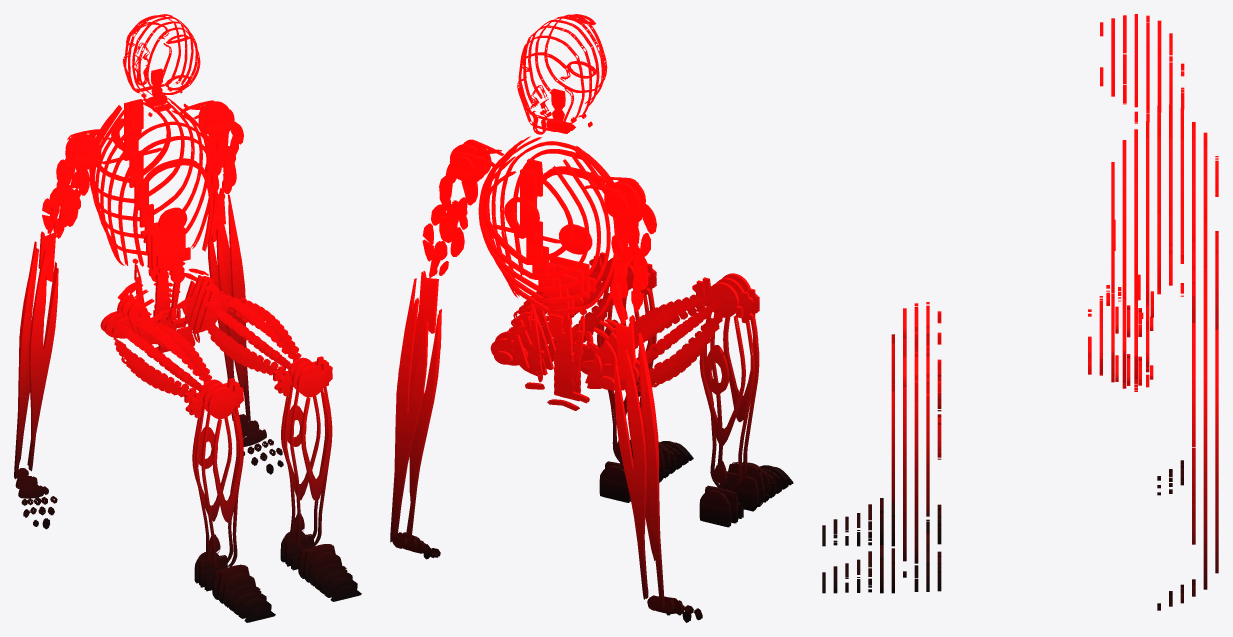
File: armageddon-red-v20.glb
The picture shows the model from 3 angles, left to right: view 1: azimuth 30°, elevation 25°; view 2: azimuth 150°, elevation 25°; view 3: azimuth 270°, elevation 25°; orthographic projection. The views are drawn at different scales.
Visible parts, largest first — view 1: armageddon-glow; view 2: armageddon-glow; view 3: armageddon-glow.
Part boxes in pixels (x1,y1,x2,y2): armageddon-glow: [14, 14, 361, 622]; armageddon-glow: [390, 14, 793, 622]; armageddon-glow: [822, 14, 1218, 610].
Bounding box in the file's own units: 0.7191 × 1.3 × 0.8575.
Materials: 1 (1 with a texture image).
